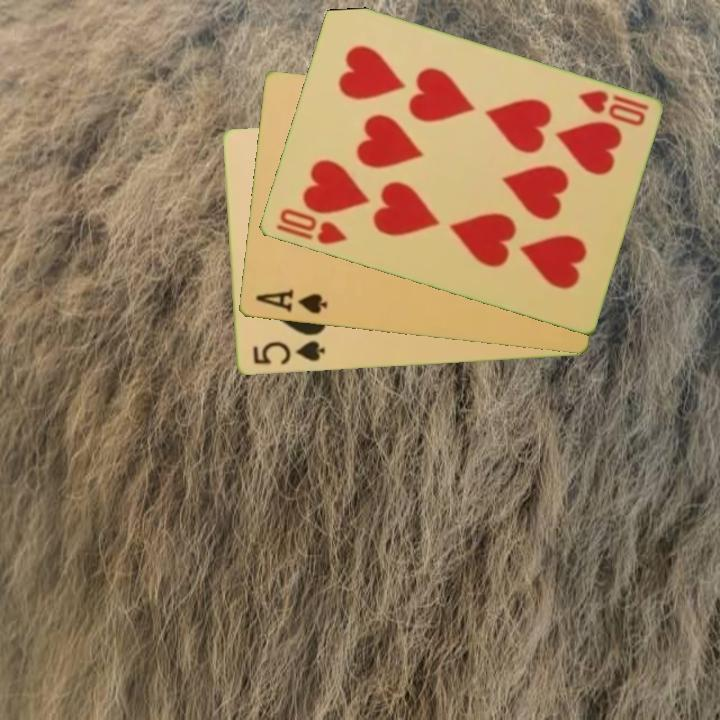10h: (272, 205, 350, 248), (573, 87, 651, 129)
5s: (249, 337, 328, 368)
As: (251, 286, 330, 317)
